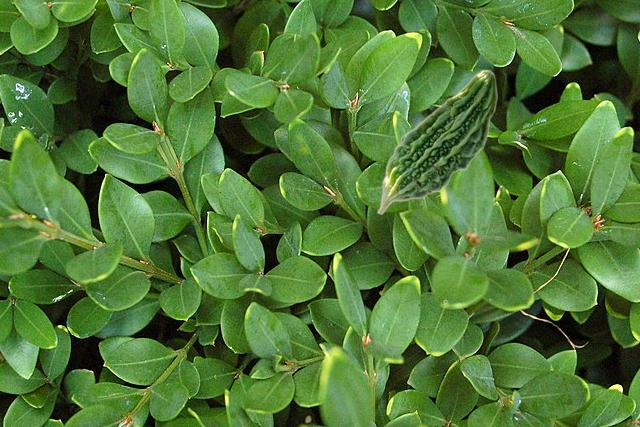ampalaya: (376, 67, 499, 215)
